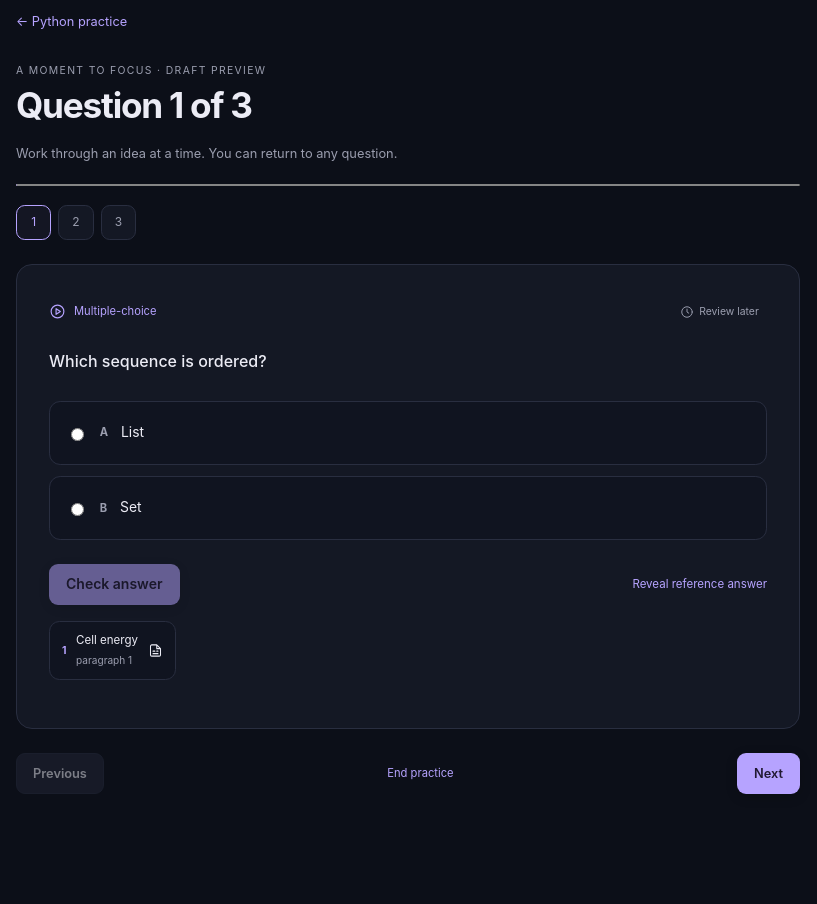
Test: Complete study tools interface › marks a question for another look without losing the current answer
The width and height of the screenshot is (817, 904).
Expected: the text "Which sequence is ordered?" is shown, [49,351,267,371]
Click the radio button labelled "A List".
click(78, 434)  # box [71,428,84,441]
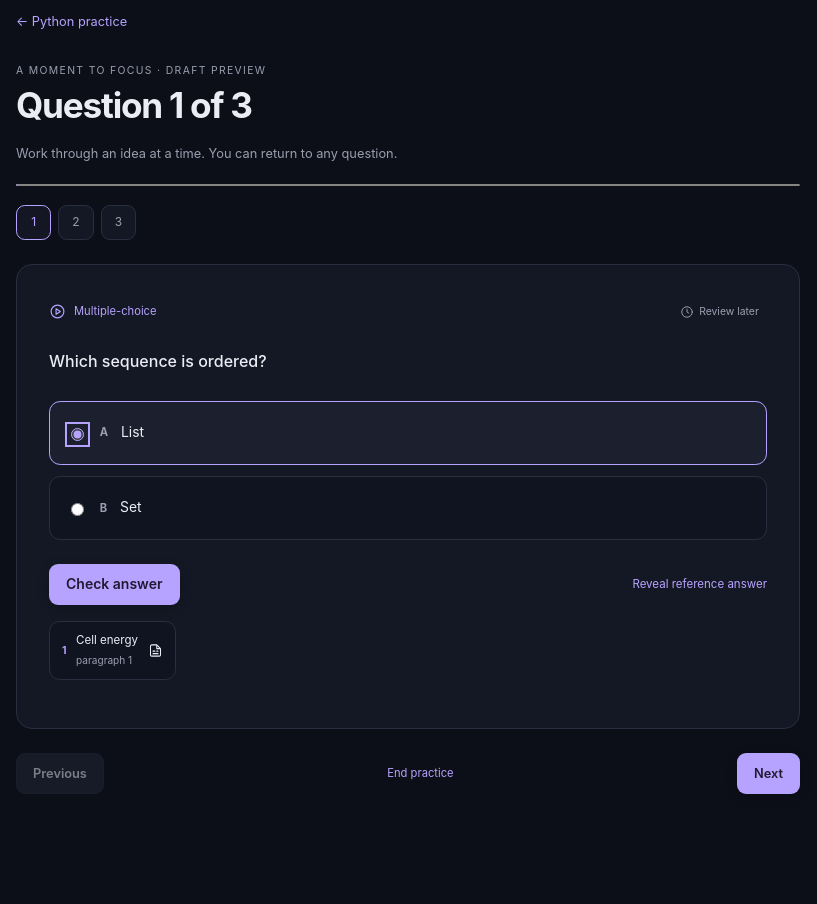
Click the button "Review later".
click(719, 312)  # box [671,297,767,326]
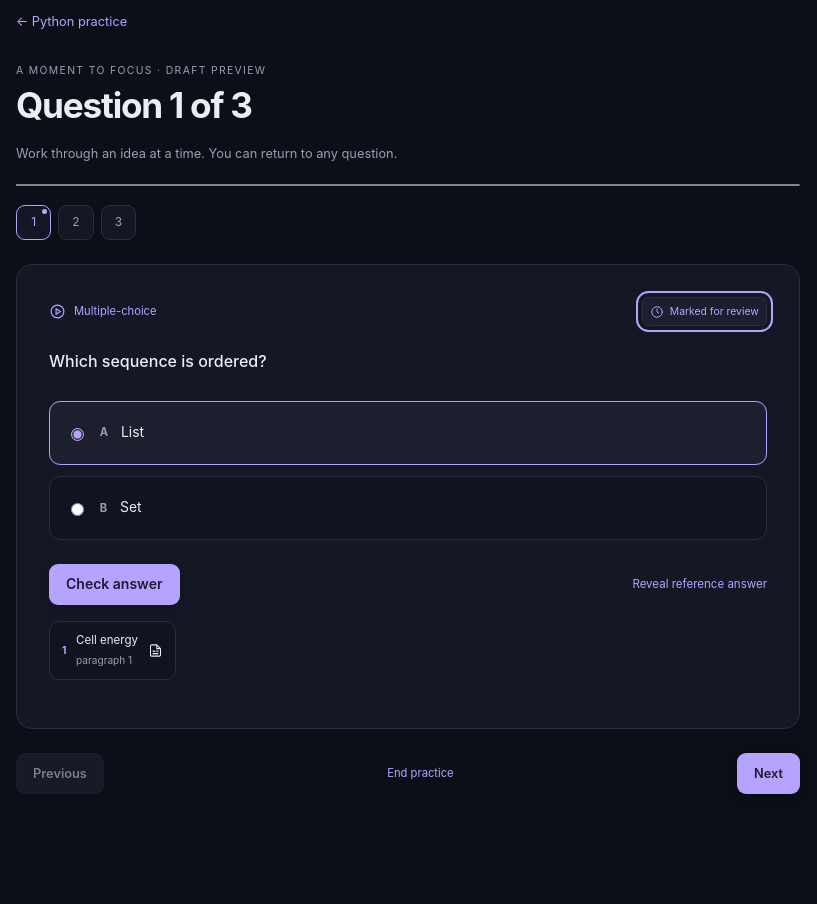
Click the button named "Question 2".
click(76, 222)  # box [58,205,94,240]
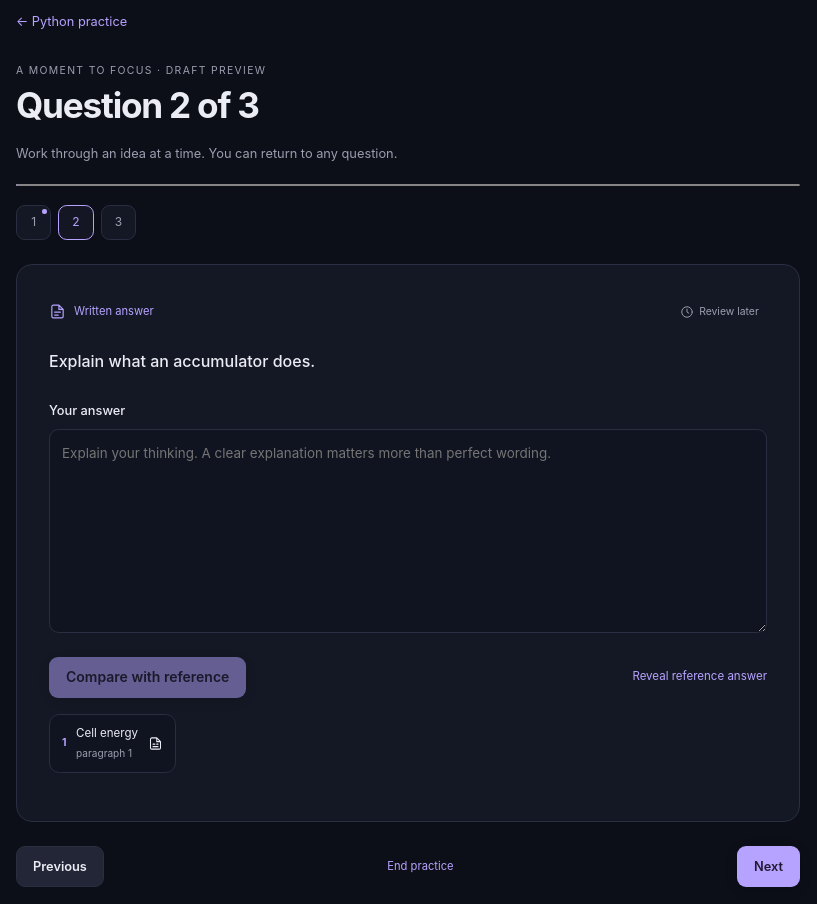
Click the button named "Question 1, marked for review".
click(34, 222)  # box [16,205,51,240]
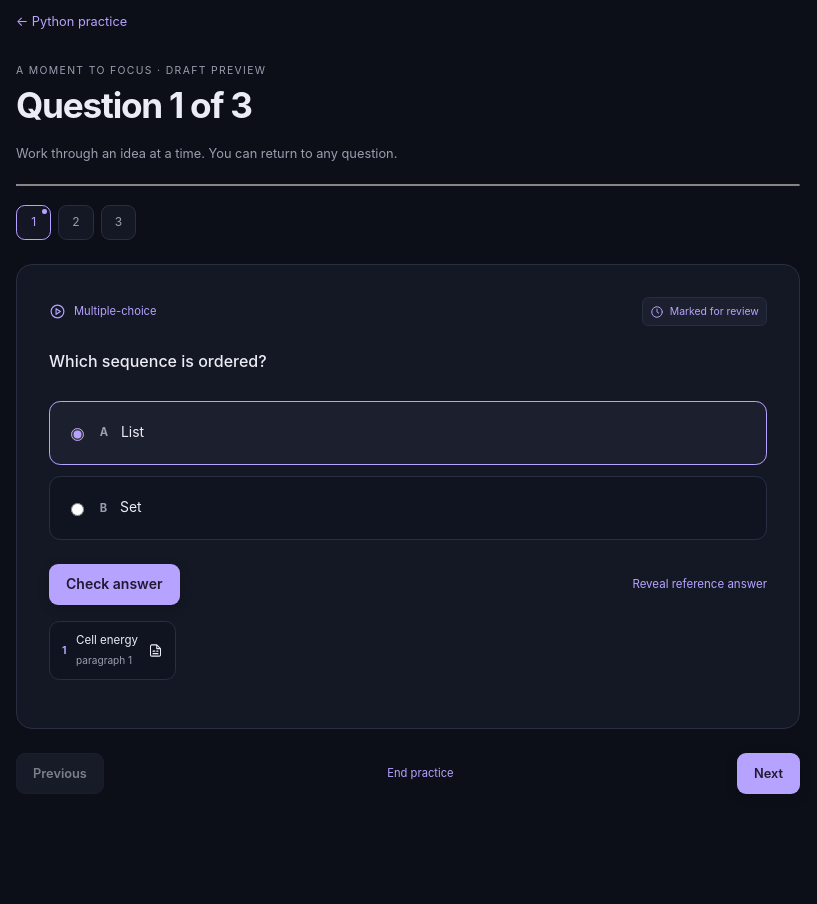
Expected: the radio button labelled "A List" is checked, [71,428,84,441]
